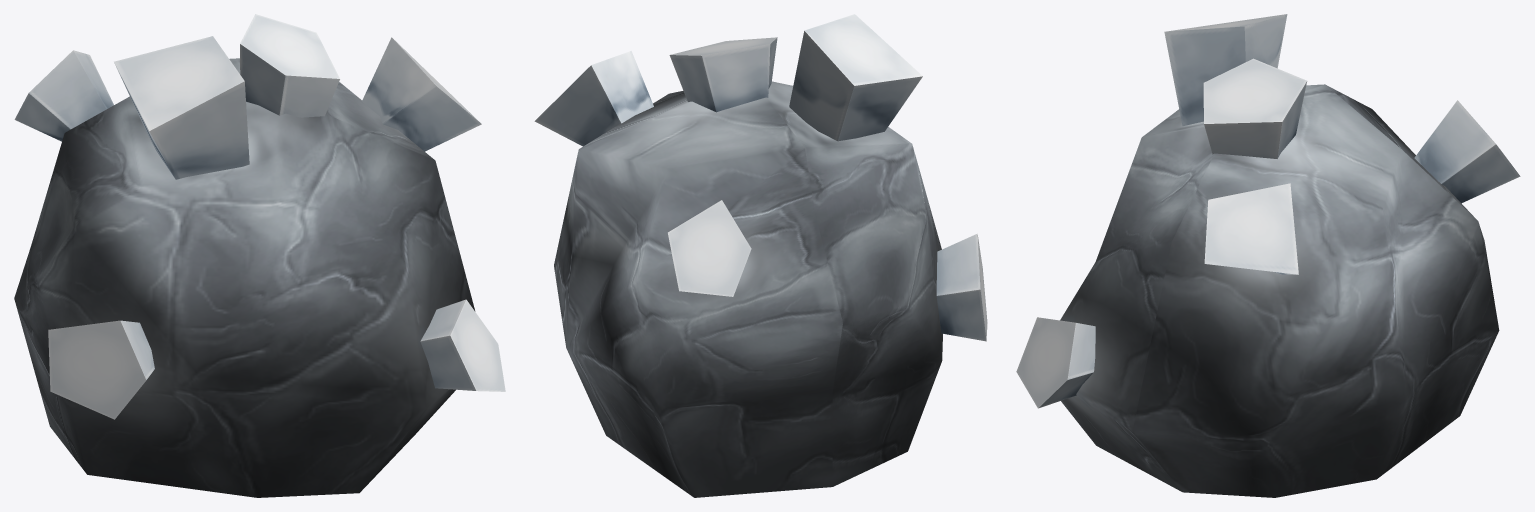
The model's file is ore_small_silver.fbx.
The picture shows the model from 3 angles, left to right: view 1: azimuth 30°, elevation 25°; view 2: azimuth 150°, elevation 25°; view 3: azimuth 270°, elevation 25°; orthographic projection. The views are drawn at different scales.
Parts seen in each view (by area): view 1: ore_small_silver:Mesh; view 2: ore_small_silver:Mesh; view 3: ore_small_silver:Mesh.
Boxes of the visible parts, left/top/right/bottom form: ore_small_silver:Mesh: left=14, top=14, right=505, bottom=497; ore_small_silver:Mesh: left=534, top=14, right=987, bottom=497; ore_small_silver:Mesh: left=1016, top=14, right=1520, bottom=497.
Bounding box in the file's own units: 3.71 × 3.36 × 3.96.
